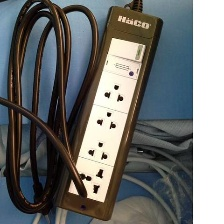three_eye_plug: (49, 3, 166, 222)
